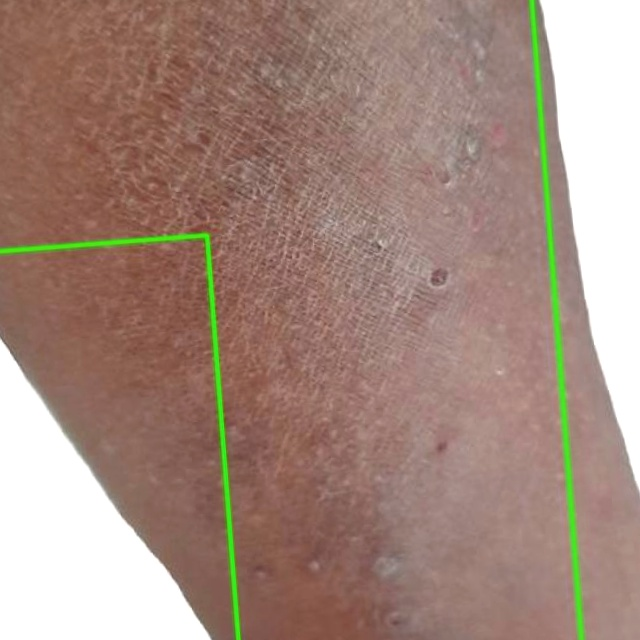Contact Dermatitis: (0, 235, 238, 639)
